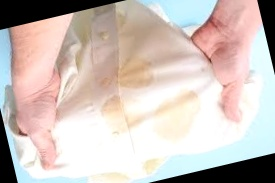oil: (140, 86, 204, 149), (99, 39, 158, 102), (95, 87, 144, 136)
